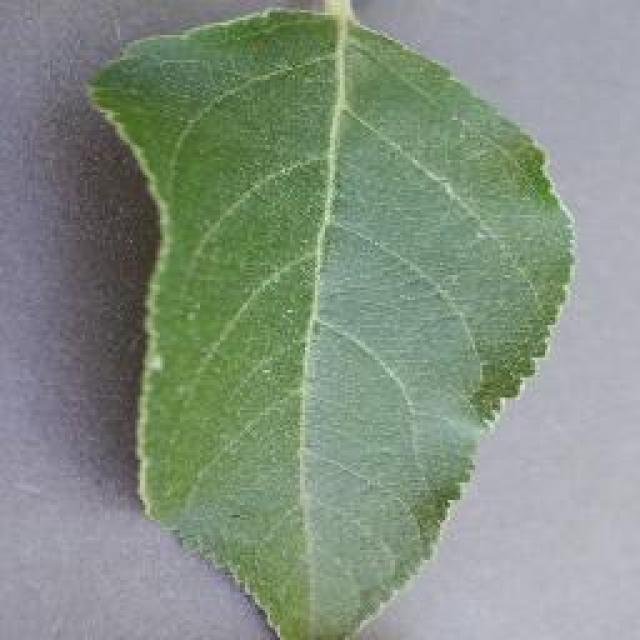apple healthy: (82, 0, 578, 638)
